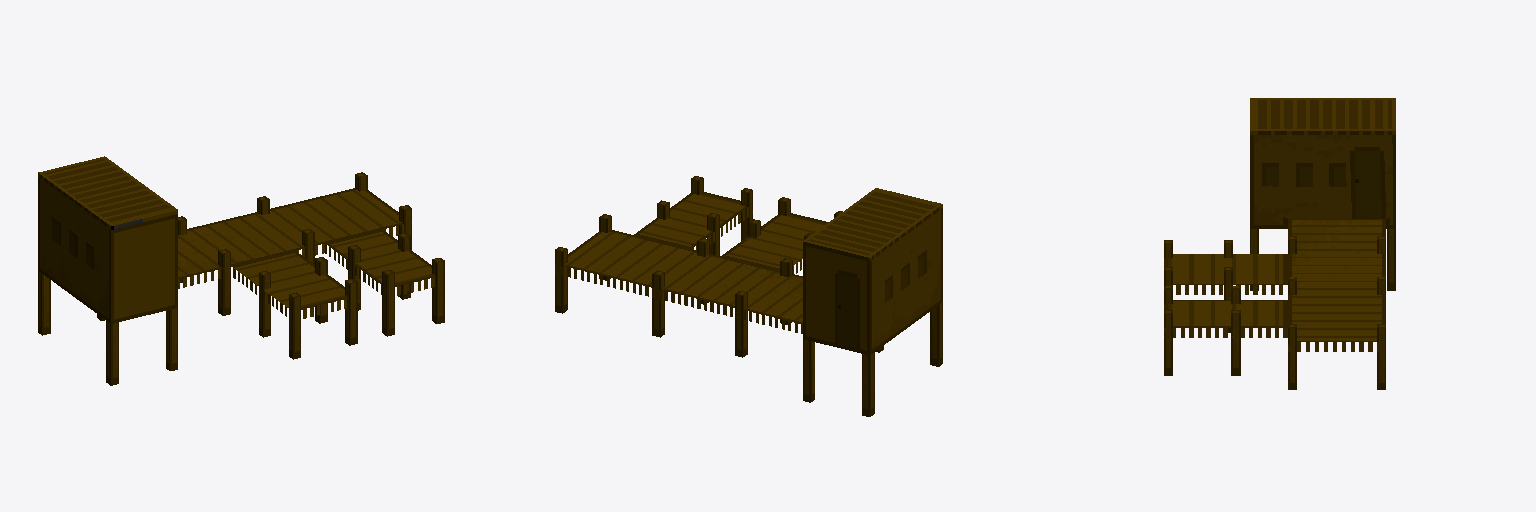
The picture shows the model from 3 angles: view 1: azimuth 30°, elevation 25°; view 2: azimuth 150°, elevation 25°; view 3: azimuth 270°, elevation 25°; orthographic projection.
Parts seen in each view (by area): view 1: dock_Cube; view 2: dock_Cube; view 3: dock_Cube.
Boxes of the visible parts, box(x1,y1,x2,y2) form: dock_Cube: box(38, 156, 444, 385); dock_Cube: box(555, 176, 942, 416); dock_Cube: box(1164, 98, 1395, 389).
Size of the model in its own units: 5.04 by 2.4 by 3.17.
Materials: 1 (1 with a texture image).